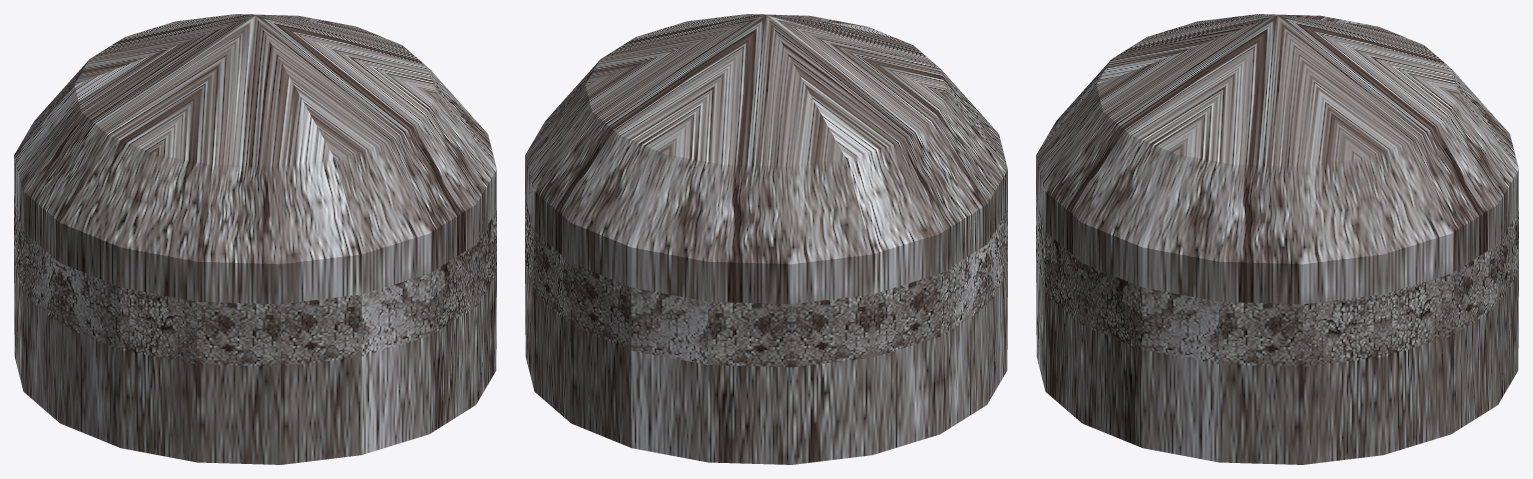
The picture shows the model from 3 angles, left to right: view 1: azimuth 30°, elevation 25°; view 2: azimuth 150°, elevation 25°; view 3: azimuth 270°, elevation 25°; orthographic projection.
Parts seen in each view (by area): view 1: mesh00; view 2: mesh00; view 3: mesh00.
Boxes of the visible parts, bbox=[...] form: mesh00: bbox=[14, 14, 496, 464]; mesh00: bbox=[525, 14, 1007, 464]; mesh00: bbox=[1036, 14, 1518, 464].
Bounding box in the file's own units: 110213 × 111026 × 110562.
